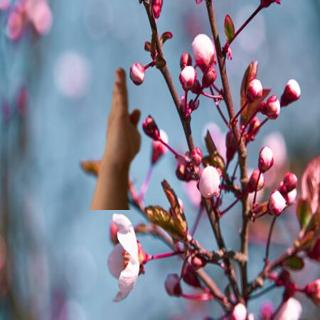RIGHT: (98, 61, 148, 172)
